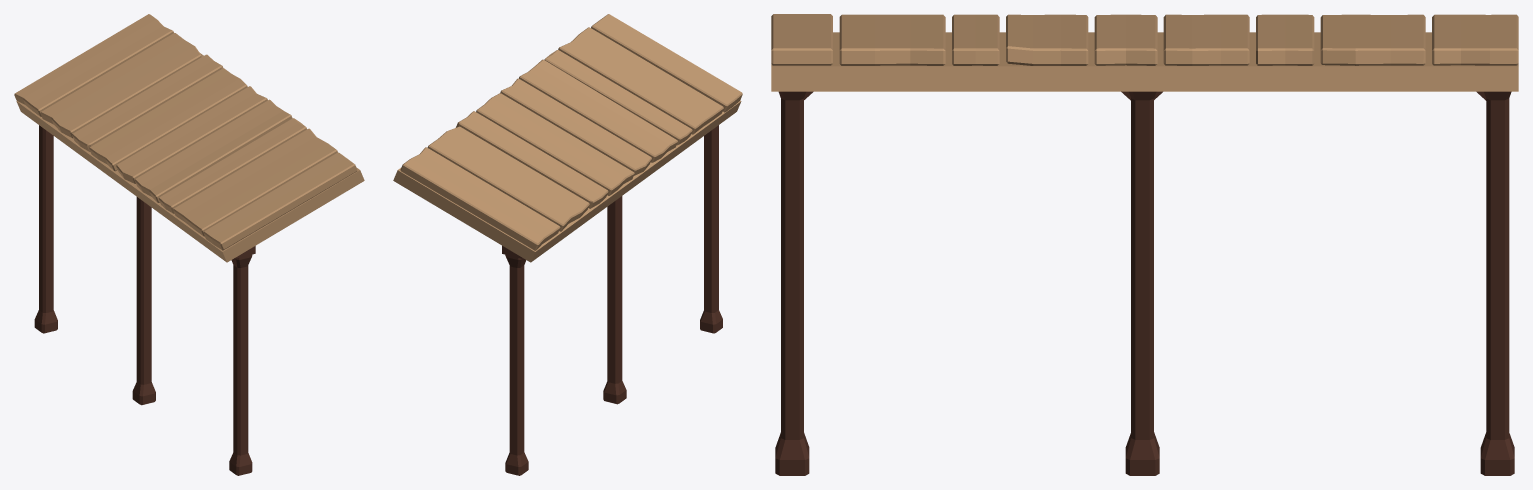
File: Balcony B.fbx
The picture shows the model from 3 angles, left to right: view 1: azimuth 30°, elevation 25°; view 2: azimuth 150°, elevation 25°; view 3: azimuth 270°, elevation 25°; orthographic projection. The views are drawn at different scales.
Parts seen in each view (by area): view 1: Balcony B; view 2: Balcony B; view 3: Balcony B.
Boxes of the visible parts, left/top/right/bottom form: Balcony B: left=14, top=14, right=364, bottom=475; Balcony B: left=393, top=14, right=742, bottom=475; Balcony B: left=771, top=14, right=1518, bottom=475.
Size of the model in its own units: 134 by 253 by 330.
